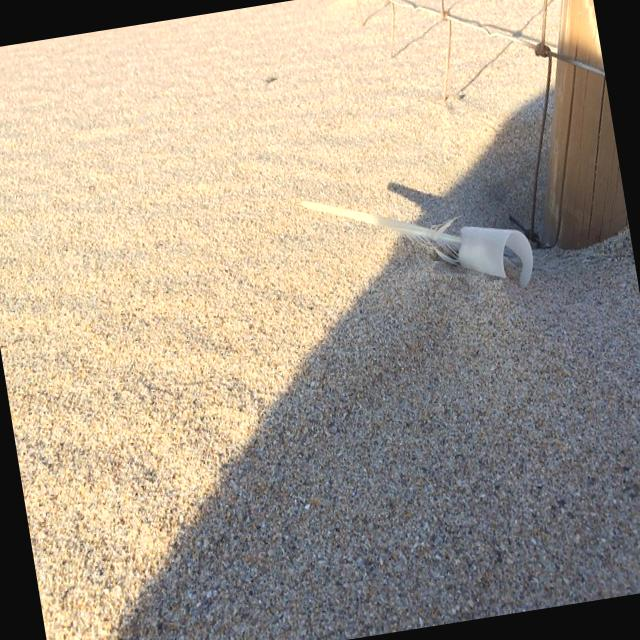Trash: (291, 157, 550, 323)
